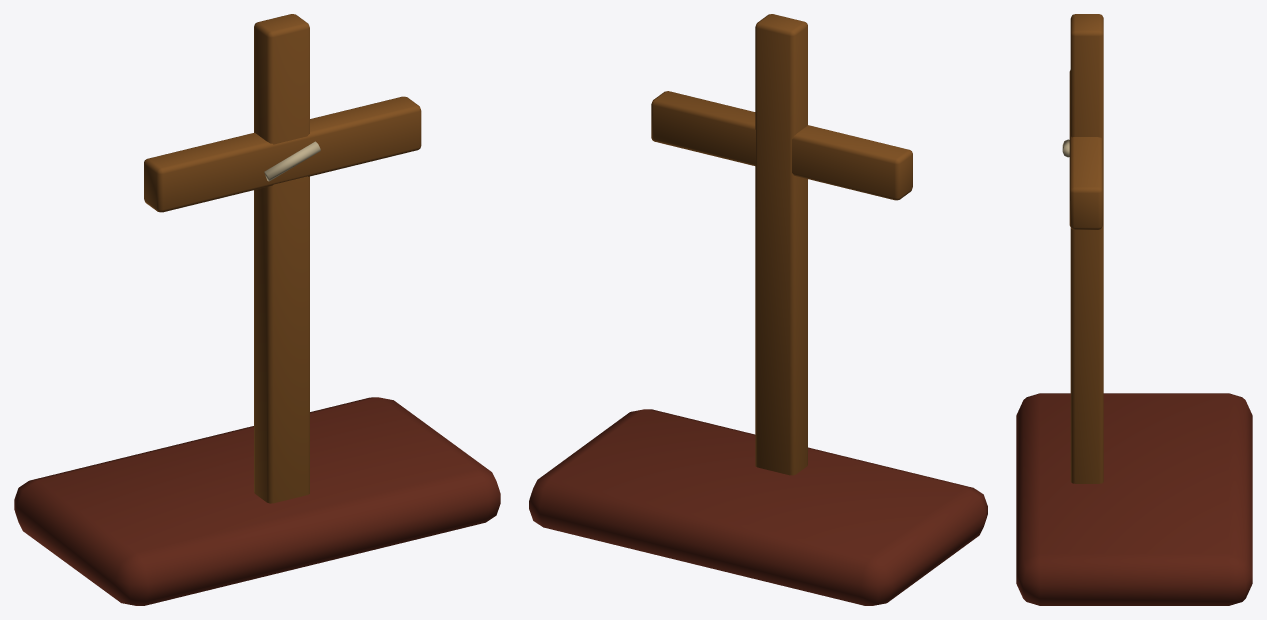
File: cross.glb
The picture shows the model from 3 angles, left to right: view 1: azimuth 30°, elevation 25°; view 2: azimuth 150°, elevation 25°; view 3: azimuth 270°, elevation 25°; orthographic projection. The views are drawn at different scales.
Parts seen in each view (by area): view 1: mound, upright, arm, tie; view 2: mound, upright, arm; view 3: mound, upright, arm.
Boxes of the visible parts, x1=… form: mound: x1=14, y1=397, x2=500, y2=605; upright: x1=254, y1=14, x2=309, y2=503; arm: x1=144, y1=96, x2=421, y2=212; tie: x1=264, y1=141, x2=320, y2=181; mound: x1=529, y1=409, x2=987, y2=605; upright: x1=755, y1=14, x2=807, y2=475; arm: x1=651, y1=91, x2=912, y2=200; mound: x1=1016, y1=393, x2=1252, y2=605; upright: x1=1070, y1=14, x2=1103, y2=483; arm: x1=1069, y1=70, x2=1102, y2=229.
Bounding box in the file's own units: 0.9 × 1.17 × 0.5.
